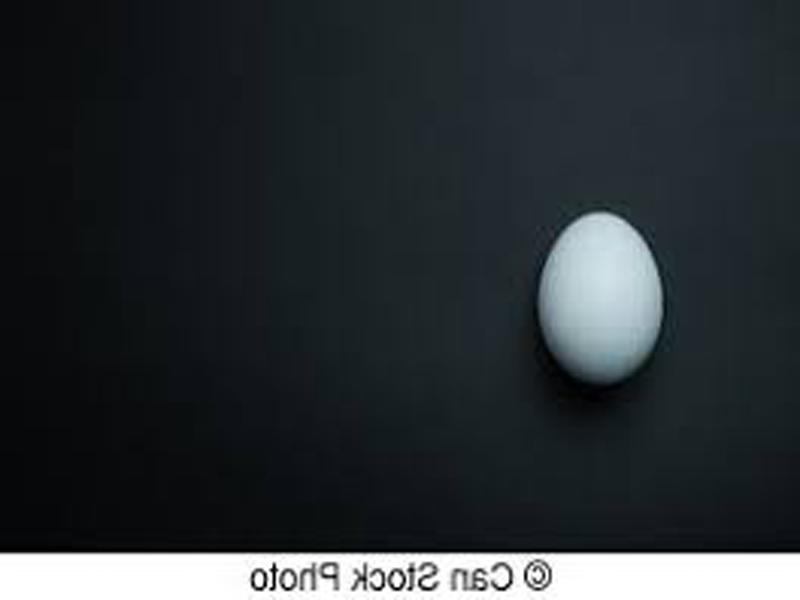Eggs: (538, 210, 666, 383)
